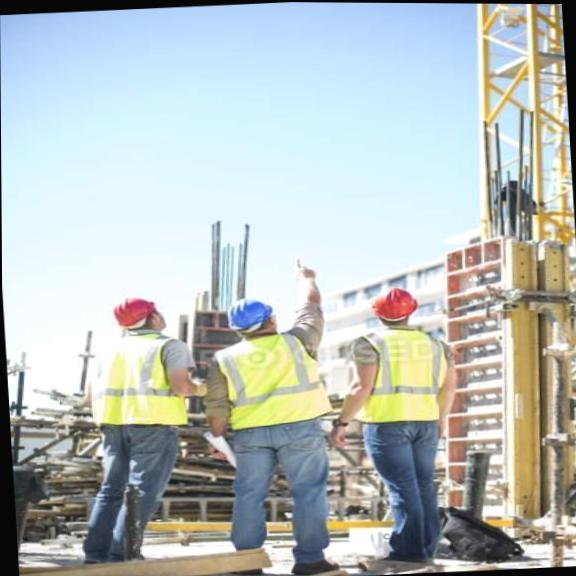safety_vest: (205, 325, 338, 439), (356, 323, 450, 428), (86, 333, 183, 433)
